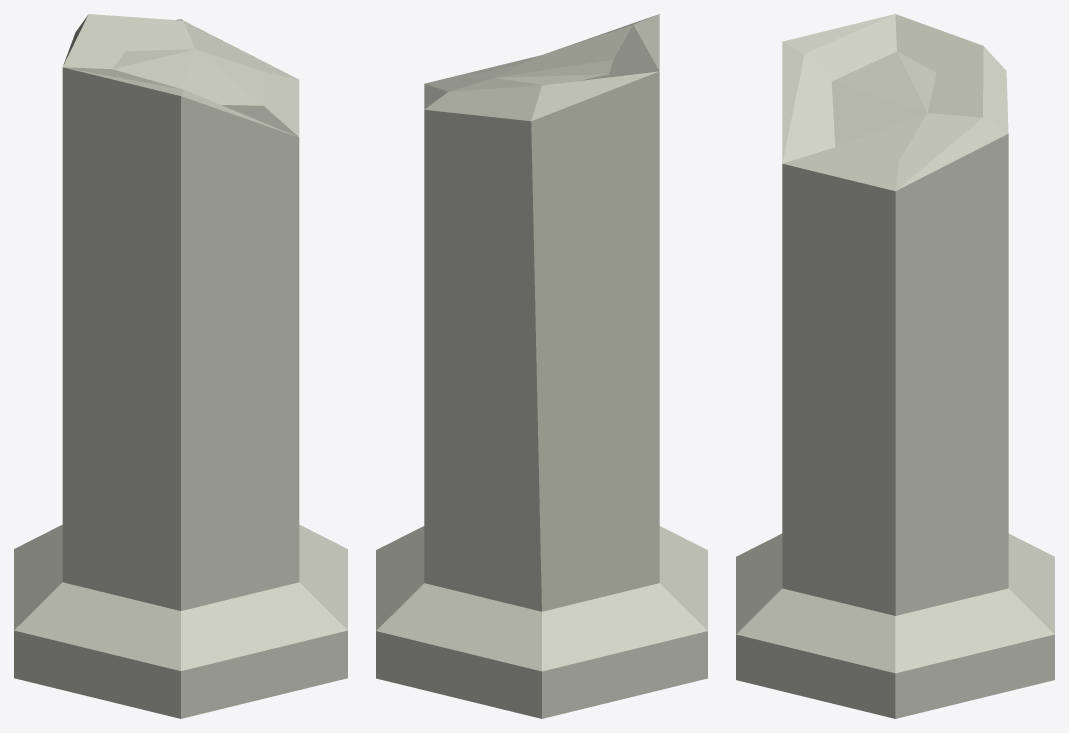
File: DD_Column02.fbx
3 renders of one model, left to right at view 1: azimuth 30°, elevation 25°; view 2: azimuth 150°, elevation 25°; view 3: azimuth 270°, elevation 25°, orthographic. The views are drawn at different scales.
Parts seen in each view (by area): view 1: DD_Column02; view 2: DD_Column02; view 3: DD_Column02.
Boxes of the visible parts, bbox=[...] form: DD_Column02: bbox=[14, 14, 347, 718]; DD_Column02: bbox=[376, 14, 707, 718]; DD_Column02: bbox=[736, 14, 1054, 718].
Bounding box in the file's own units: 40.58 × 69.83 × 35.14.
1 material, 1 textured.
